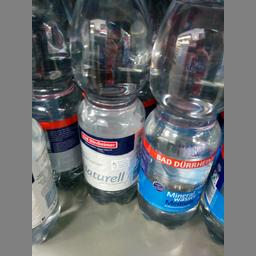water: (136, 0, 222, 229), (65, 0, 151, 206)
